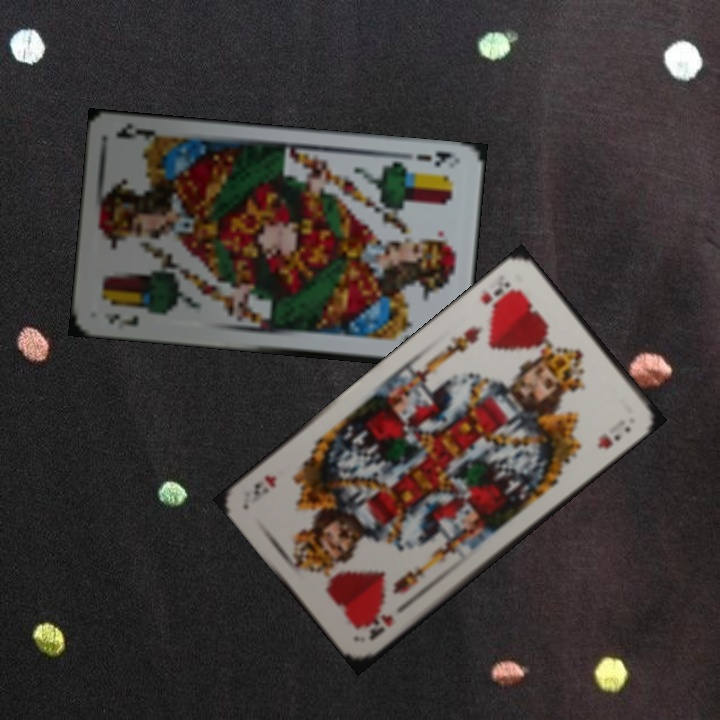EK: (412, 146, 460, 170), (101, 309, 142, 332)
HK: (476, 277, 522, 315), (360, 610, 396, 643)
